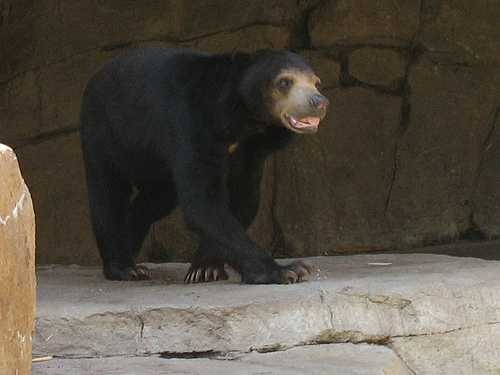bear: (223, 43, 351, 171)
